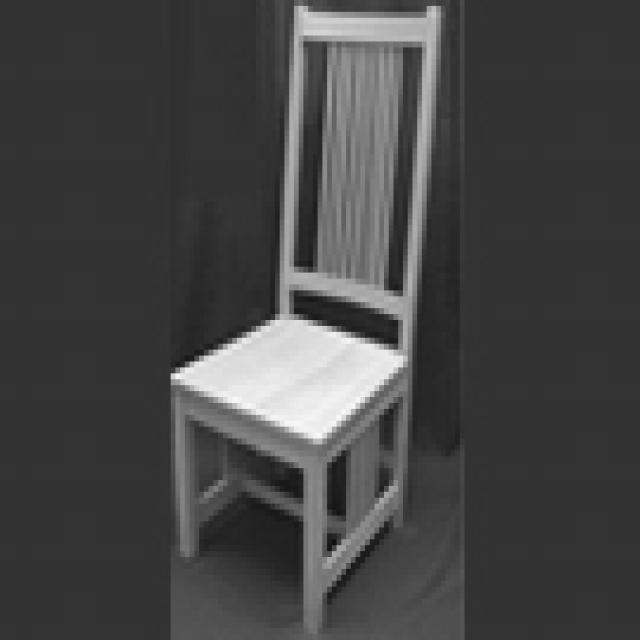chair: (172, 1, 440, 634)
